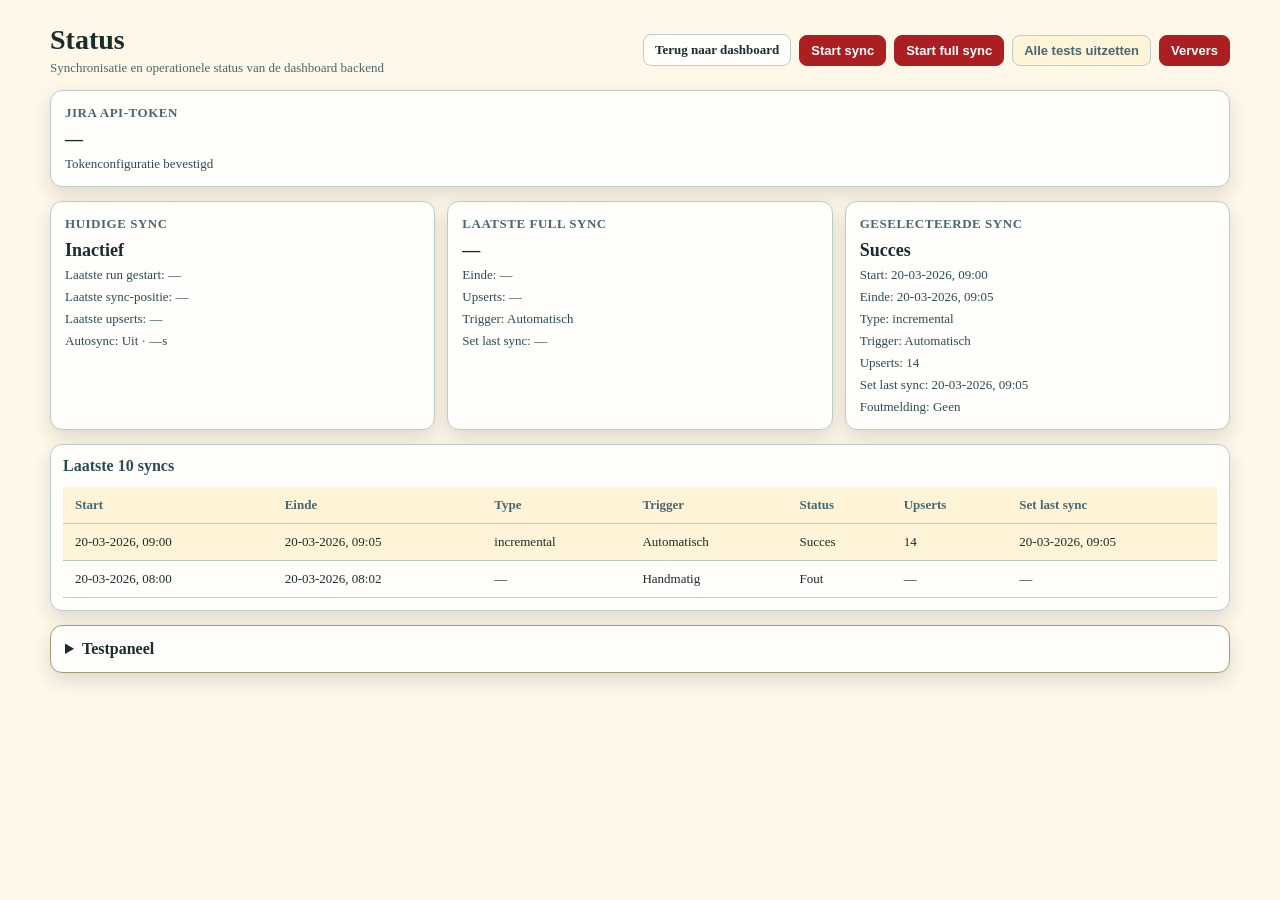
Status page › renders recent runs, badges, and updates selected run details on row click
The image size is (1280, 900).
Expected: the text "Automatisch" is shown, [630, 524, 787, 561]
Expected: the text "Handmatig" is shown, [630, 561, 787, 598]
Click the text "Fout" at (840, 579), box [787, 561, 892, 598]
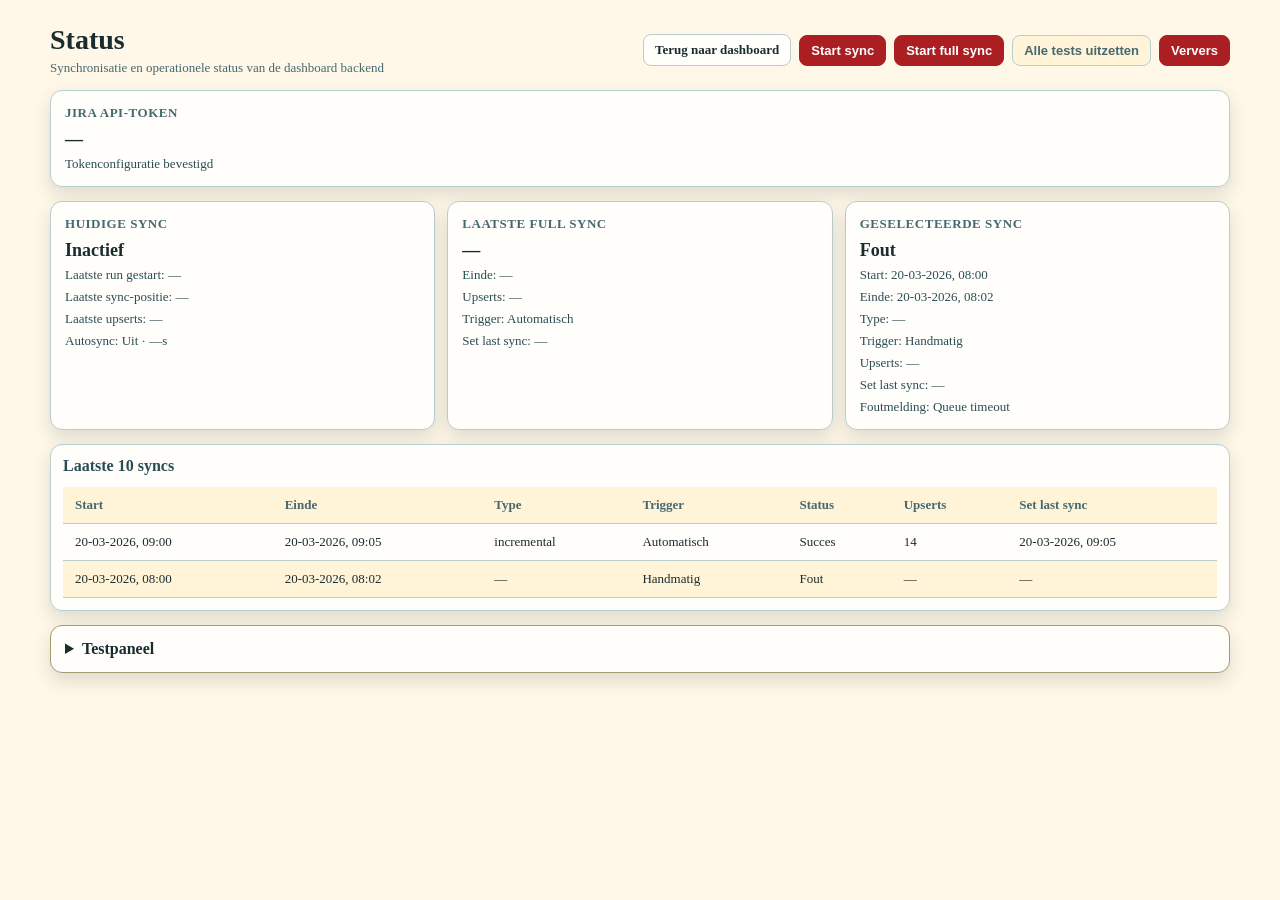
Expected: the text "Upserts: —" below "Laatste full sync" is shown, [462, 289, 522, 304]
Now the text "Foutmelding: Queue timeout" is shown, box [860, 399, 1010, 414]
Now the text "Type: —" is shown, box [860, 311, 905, 326]
